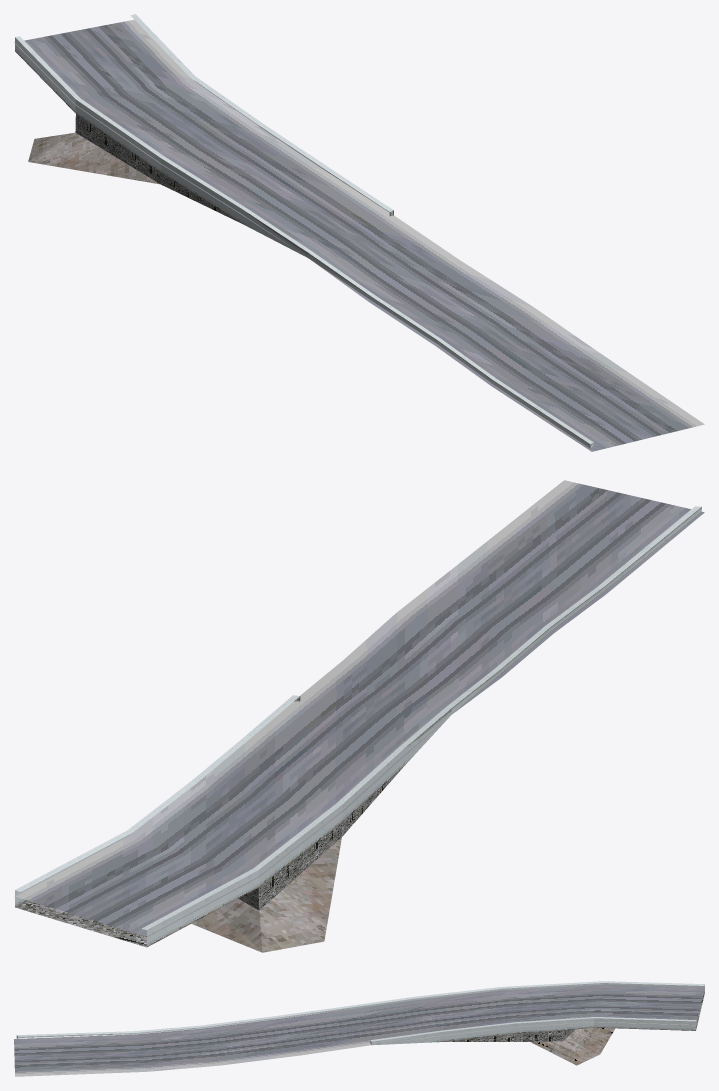
Rendered from lodasnroad24.obj.
3 views of the same model, one above another, from view 1: azimuth 30°, elevation 25°; view 2: azimuth 150°, elevation 25°; view 3: azimuth 270°, elevation 25° (orthographic). The views are drawn at different scales.
Visible parts, largest first — view 1: lodasNroad24; view 2: lodasNroad24; view 3: lodasNroad24.
Boxes of the visible parts, x1=… form: lodasNroad24: x1=14, y1=14, x2=704, y2=451; lodasNroad24: x1=14, y1=480, x2=704, y2=952; lodasNroad24: x1=14, y1=981, x2=704, y2=1076.
Size of the model in its own units: 41.79 by 8.81 by 155.
4 materials, 4 textured.
